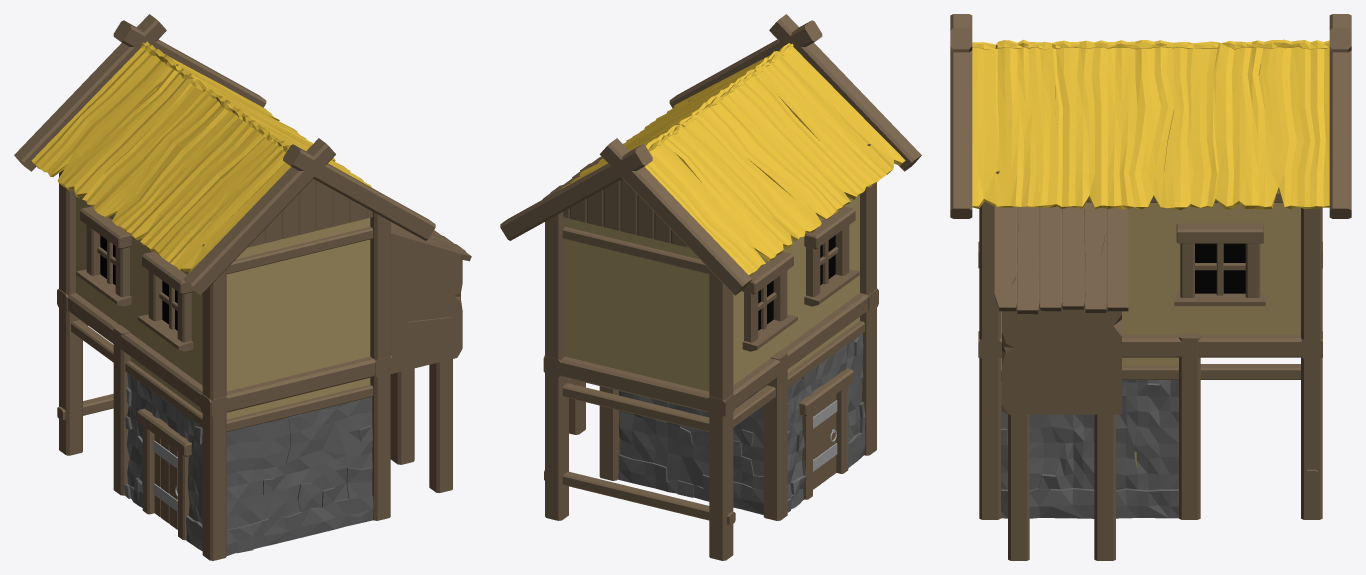
Rendered from House 7.fbx.
3 views of the same model, side by side, from view 1: azimuth 30°, elevation 25°; view 2: azimuth 150°, elevation 25°; view 3: azimuth 270°, elevation 25° (orthographic). The views are drawn at different scales.
Parts seen in each view (by area): view 1: House 7; view 2: House 7; view 3: House 7.
Boxes of the visible parts, x1=… form: House 7: x1=14, y1=14, x2=471, y2=560; House 7: x1=500, y1=14, x2=921, y2=560; House 7: x1=950, y1=14, x2=1351, y2=560.
Bounding box in the file's own units: 6.56 × 8.29 × 6.69.
